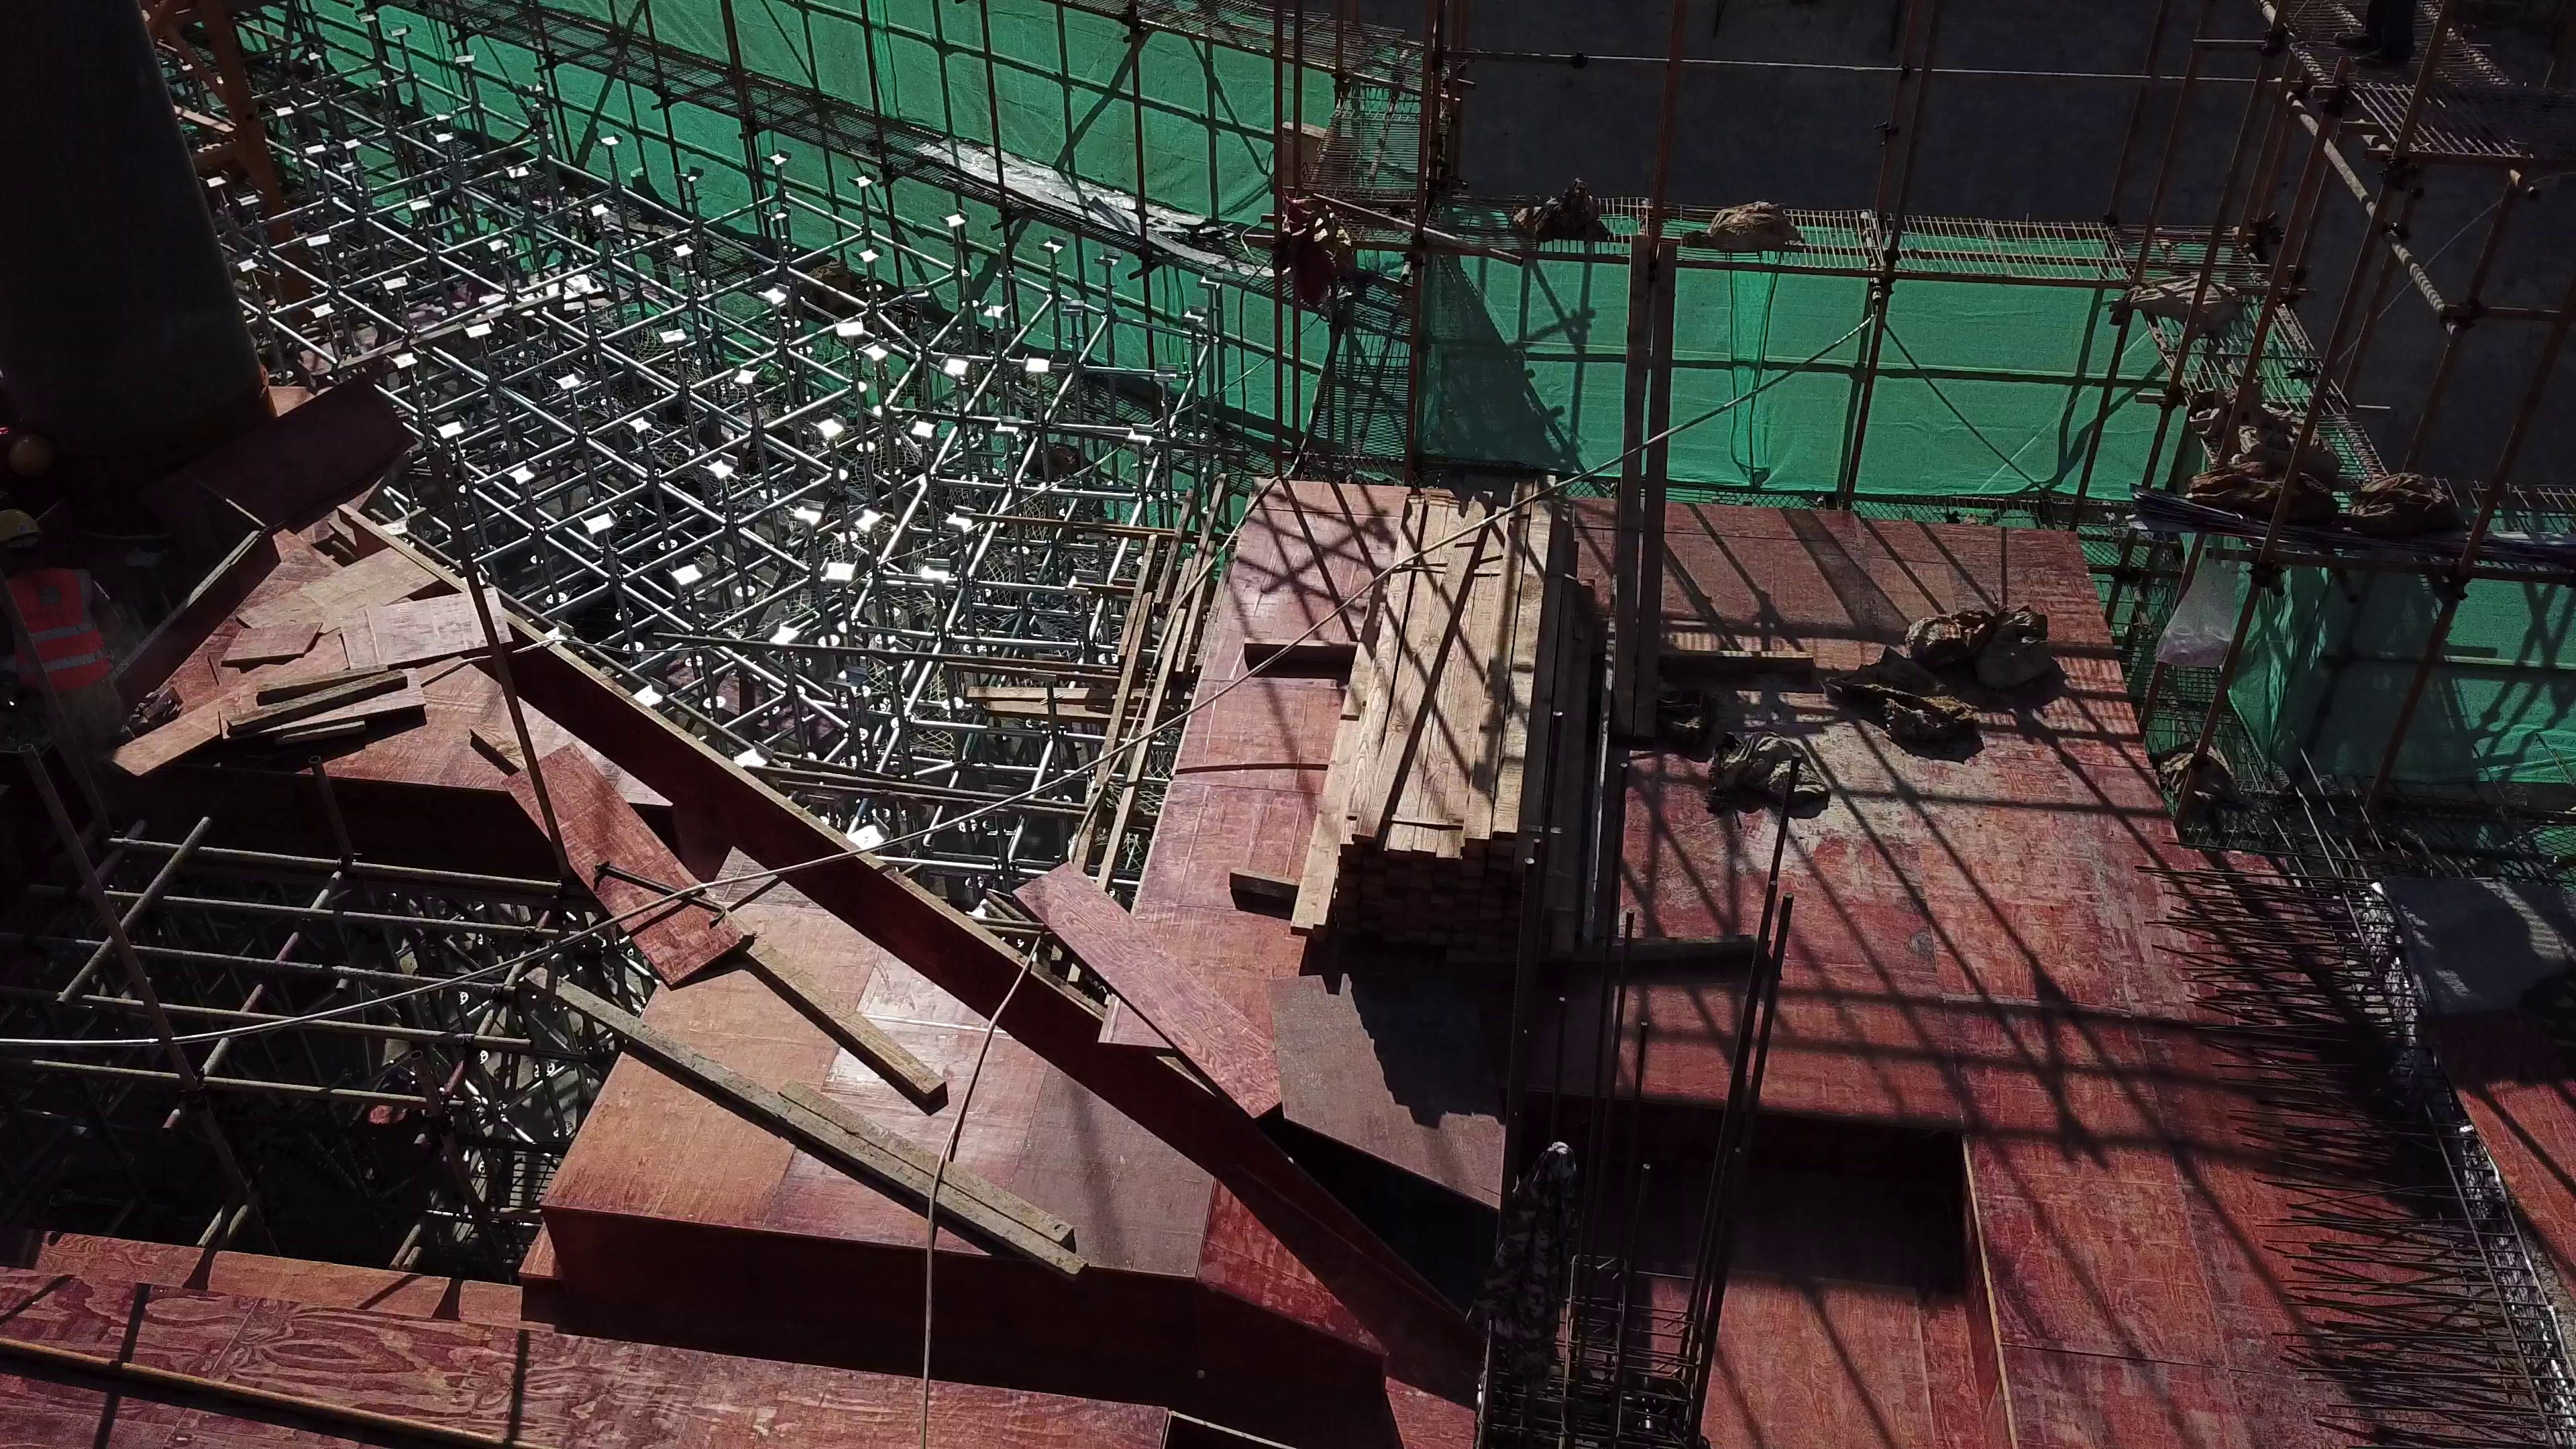helmet: (1, 508, 48, 549)
person: (1, 504, 141, 828)
vest: (1, 570, 117, 699)
wood: (1301, 496, 1597, 975)
